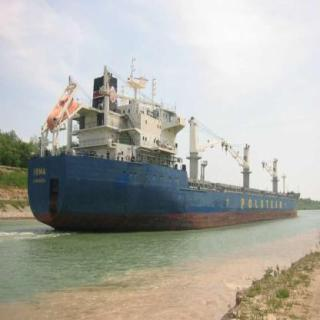Bulk Carrier: (29, 52, 303, 230)
